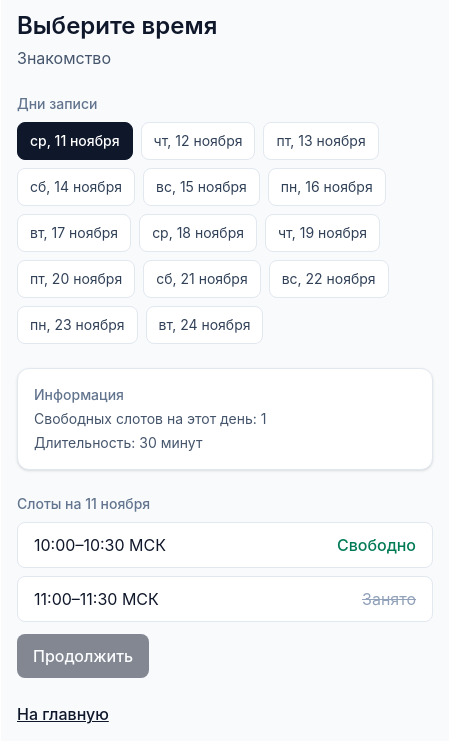
Страница записи › выбор свободного слота активирует «Продолжить», но форма ещё закрыта
Expected: the button "Продолжить" is disabled, [17,634,149,678]
Click the button "10:00–10:30 МСК Свободно": (100, 545) [17,522,433,568]
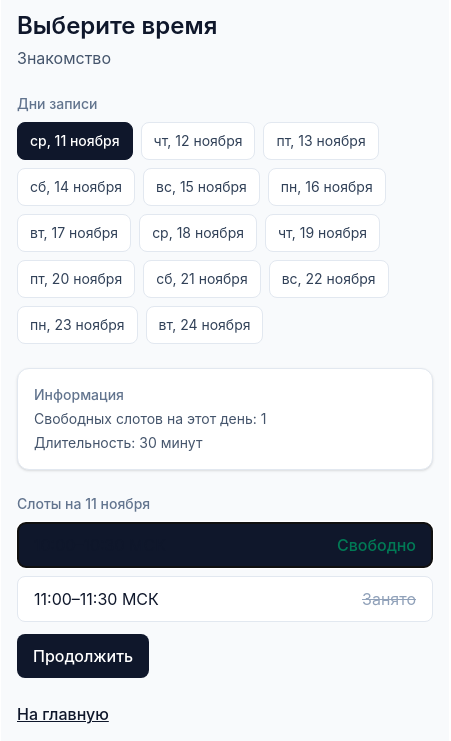
Result: the button "Продолжить" is enabled at [17,634,149,678]
